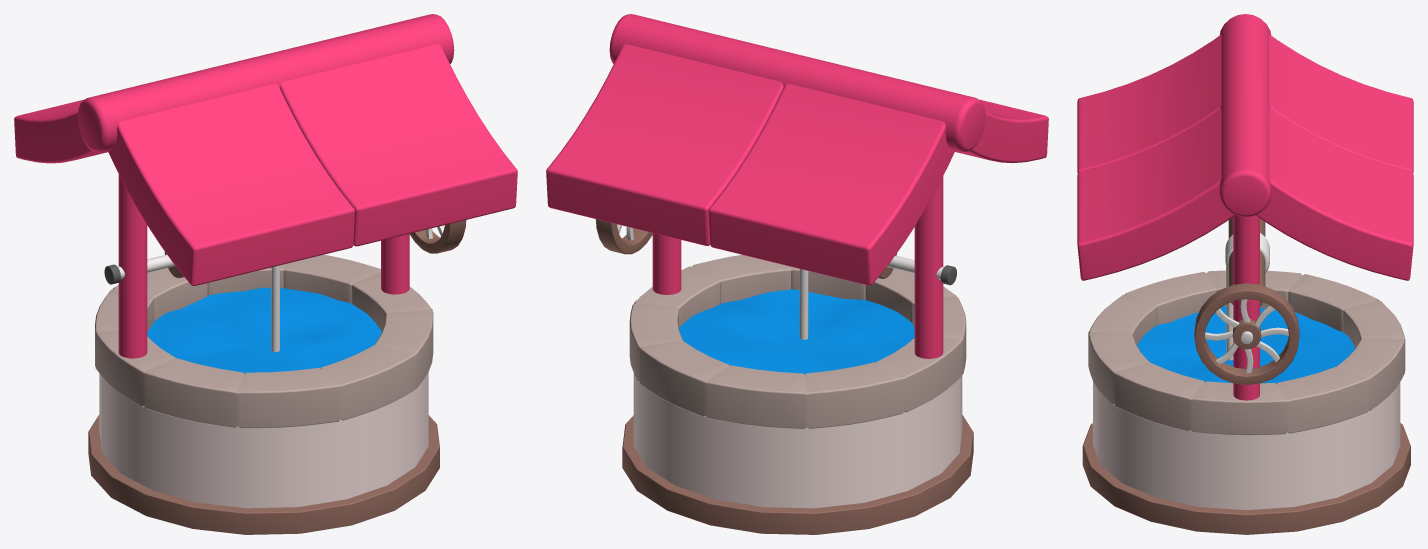
The model's file is Farm_9_Well_1.glb.
3 views of the same model, side by side, from view 1: azimuth 30°, elevation 25°; view 2: azimuth 150°, elevation 25°; view 3: azimuth 270°, elevation 25° (orthographic). The views are drawn at different scales.
Parts seen in each view (by area): view 1: Farm_9_Well_1; view 2: Farm_9_Well_1; view 3: Farm_9_Well_1.
Boxes of the visible parts, x1=… form: Farm_9_Well_1: x1=14, y1=14, x2=517, y2=534; Farm_9_Well_1: x1=546, y1=14, x2=1048, y2=534; Farm_9_Well_1: x1=1077, y1=14, x2=1413, y2=534.
Bounding box in the file's own units: 2.77 × 3.03 × 2.46.
Materials: 1 (1 with a texture image).
